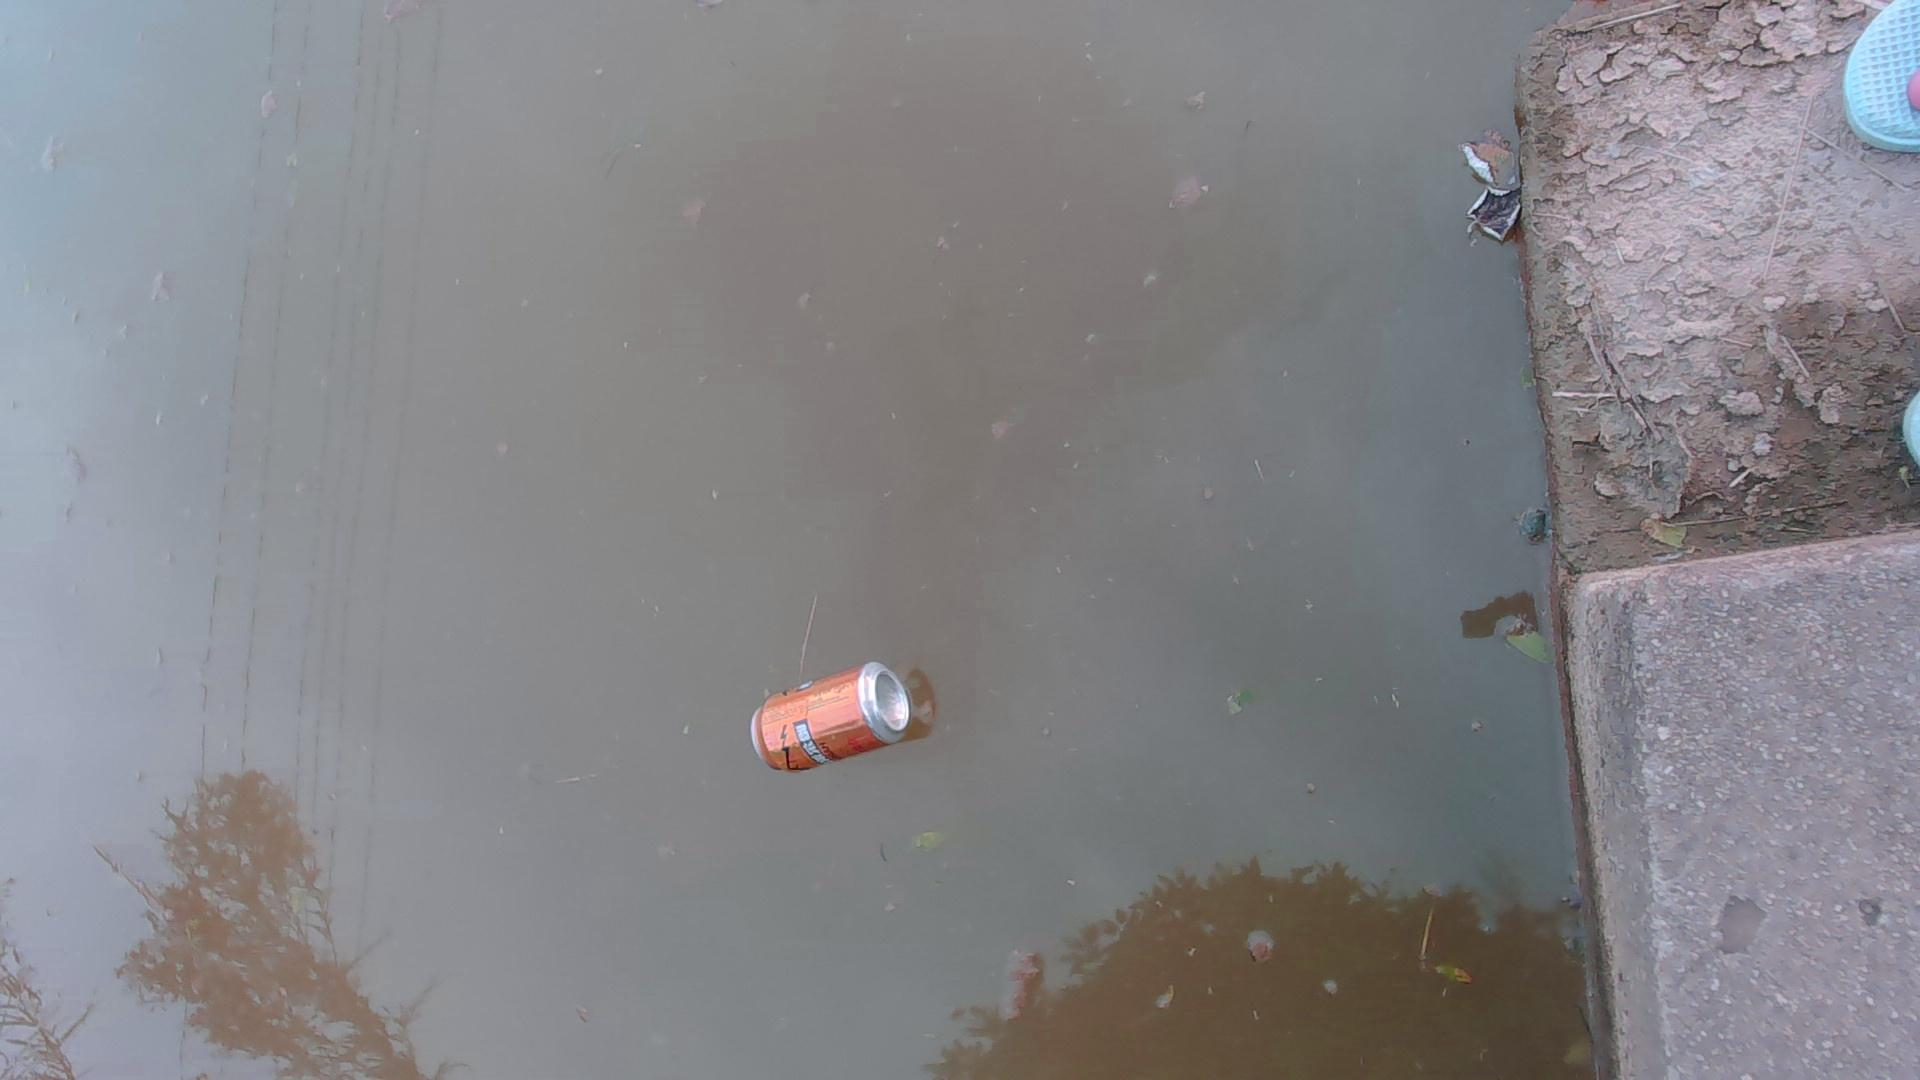Metal: (744, 659, 916, 790)
